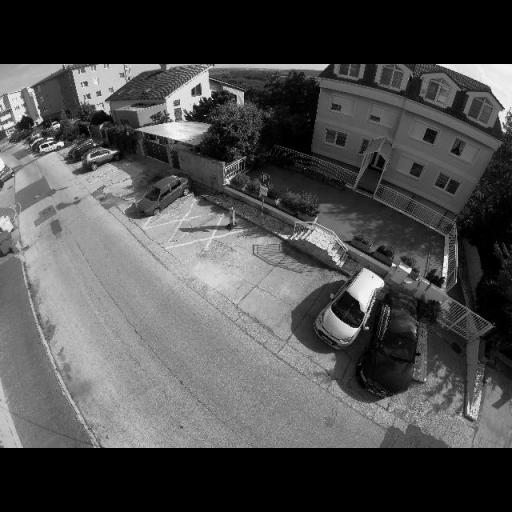busy: (362, 283, 435, 397), (314, 268, 385, 350), (133, 172, 195, 215), (82, 146, 124, 169)
free: (193, 226, 226, 257), (167, 205, 191, 222), (94, 163, 118, 178)
